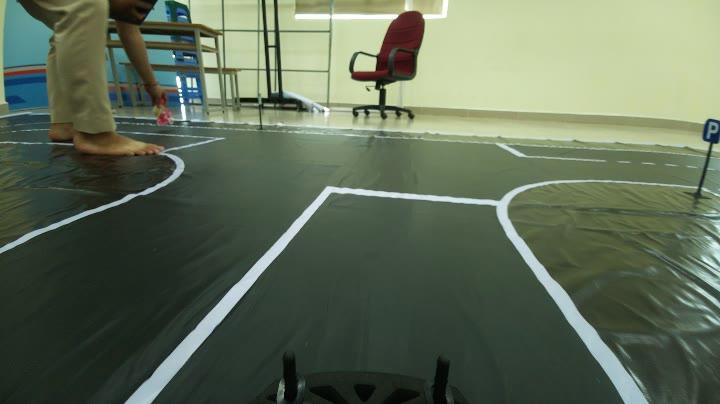parking: (702, 117, 720, 146)
